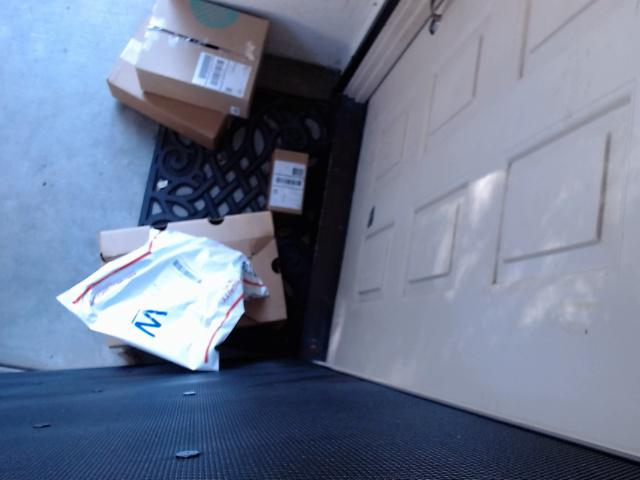box: (97, 1, 283, 124), (95, 210, 292, 311), (265, 145, 323, 234)
plastic_bag: (63, 225, 252, 370)
